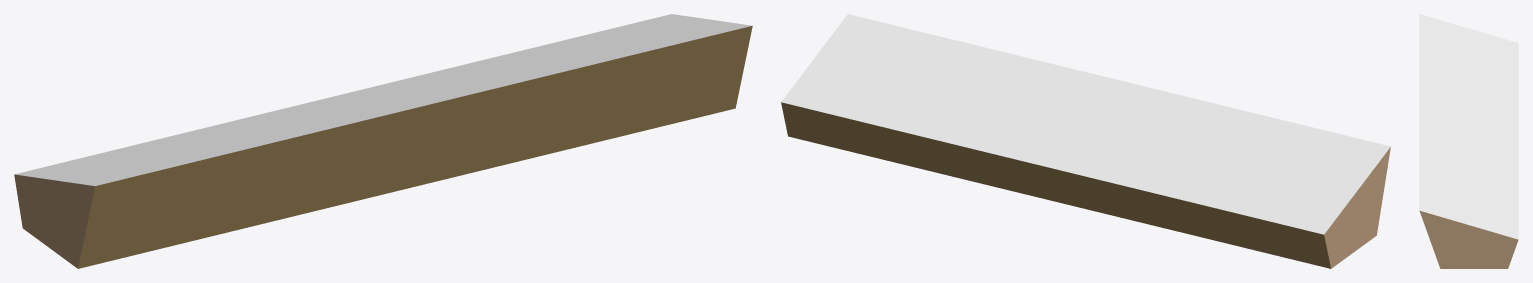
File: Oak_Firewood_Snow_05.fbx
3 views of the same model, side by side, from view 1: azimuth 30°, elevation 25°; view 2: azimuth 150°, elevation 25°; view 3: azimuth 270°, elevation 25° (orthographic). The views are drawn at different scales.
Visible parts, largest first — view 1: Oak_Firewood_Snow_05; view 2: Oak_Firewood_Snow_05; view 3: Oak_Firewood_Snow_05.
Boxes of the visible parts, <box> form: Oak_Firewood_Snow_05: <box>14,14,752,268</box>; Oak_Firewood_Snow_05: <box>781,14,1390,268</box>; Oak_Firewood_Snow_05: <box>1419,14,1518,268</box>.
Size of the model in its own units: 56 by 7.76 by 11.95.
